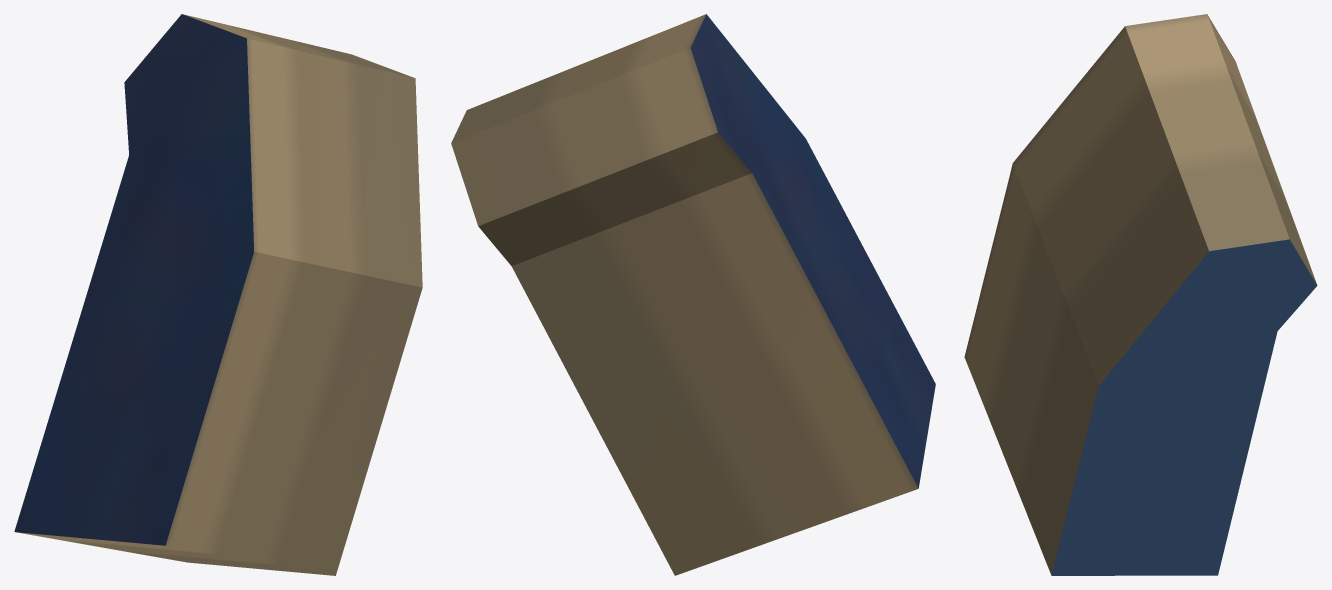
File: 0633_East_Timor.glb
The picture shows the model from 3 angles, left to right: view 1: azimuth 30°, elevation 25°; view 2: azimuth 150°, elevation 25°; view 3: azimuth 270°, elevation 25°; orthographic projection. The views are drawn at different scales.
Visible parts, largest first — view 1: part_0; view 2: part_0; view 3: part_0.
Boxes of the visible parts, left/top/right/bottom form: part_0: left=14, top=14, right=422, bottom=575; part_0: left=451, top=14, right=935, bottom=575; part_0: left=964, top=14, right=1317, bottom=575.
Size of the model in its own units: 0.349 by 0.422 by 0.2428.
1 material, 1 textured.
